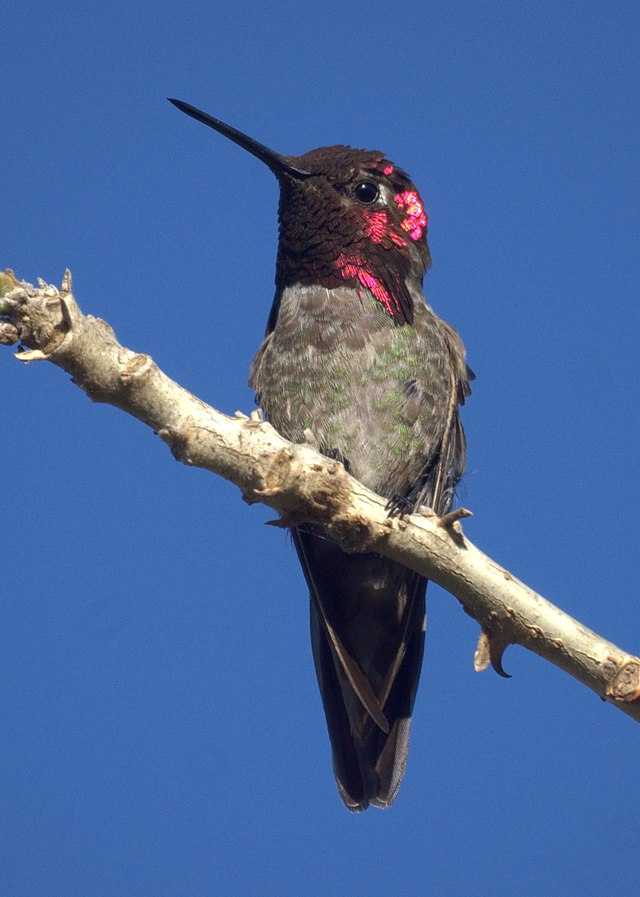calypte anna: (163, 91, 473, 814)
